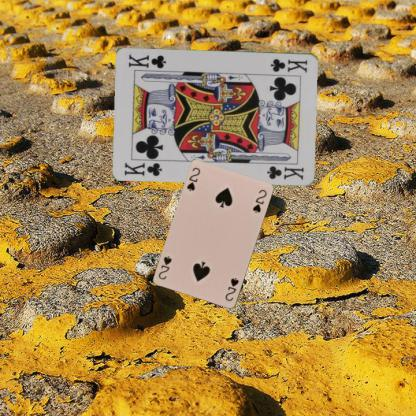2s: (222, 275, 240, 303), (184, 165, 202, 193)
Kc: (268, 56, 309, 74), (122, 160, 163, 177)
